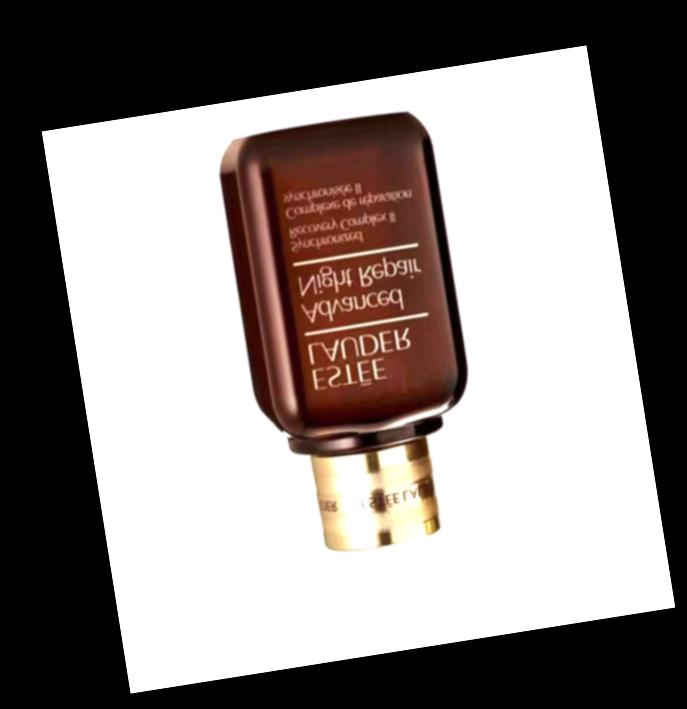cosmetic: (225, 113, 508, 648)
